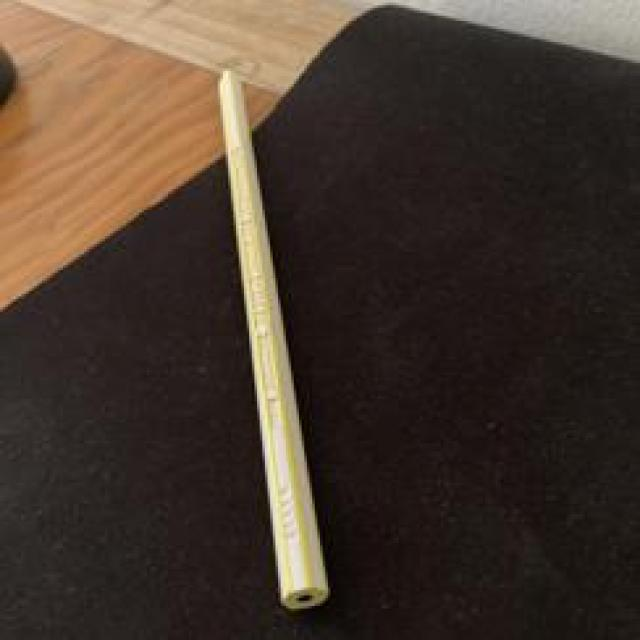pencil: (220, 76, 326, 611)
